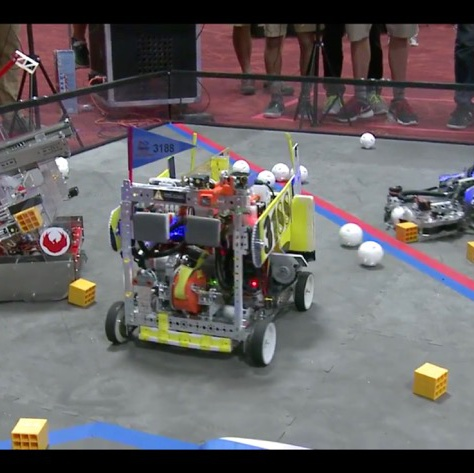robot: (103, 119, 319, 370), (1, 48, 89, 307), (379, 163, 474, 240)
